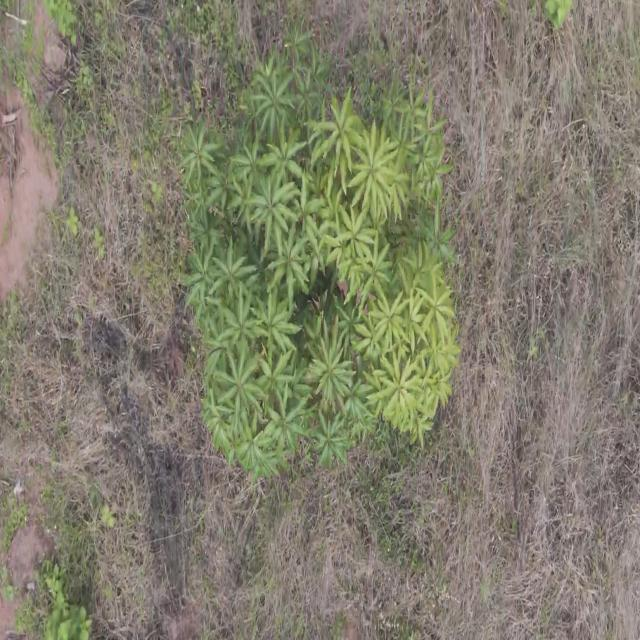mangoTree: (175, 14, 461, 483)
